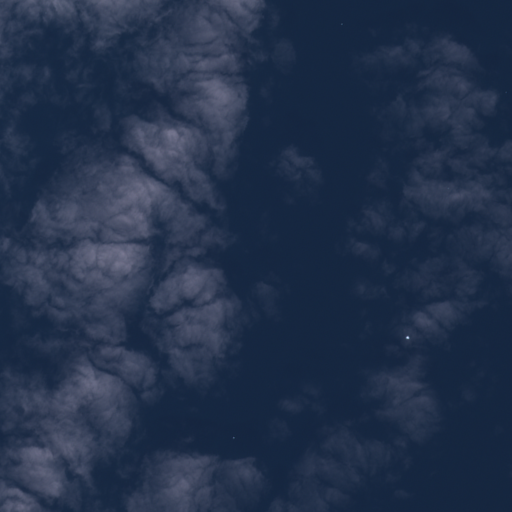Iceberg: (405, 335, 409, 339), (341, 23, 342, 24), (233, 437, 234, 438)
